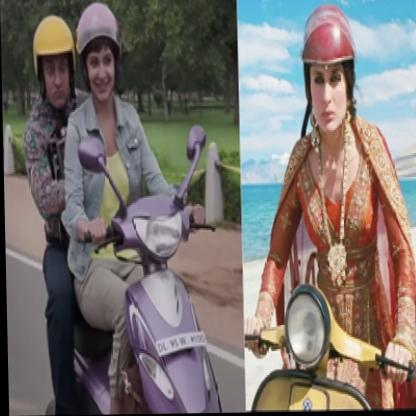With Helmet: (295, 3, 361, 135), (71, 2, 125, 104), (30, 10, 76, 111)
